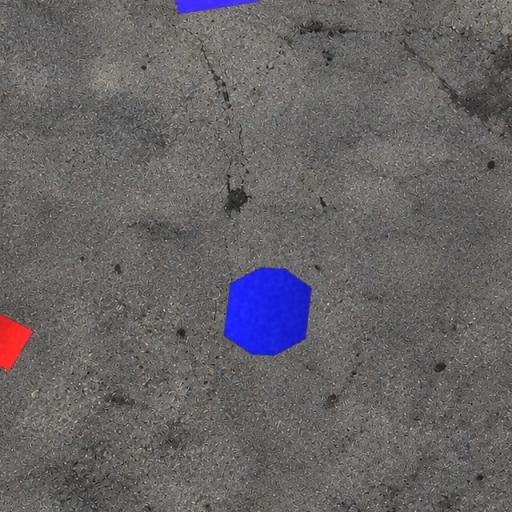RED_SQUARE: (0, 311, 34, 371)
